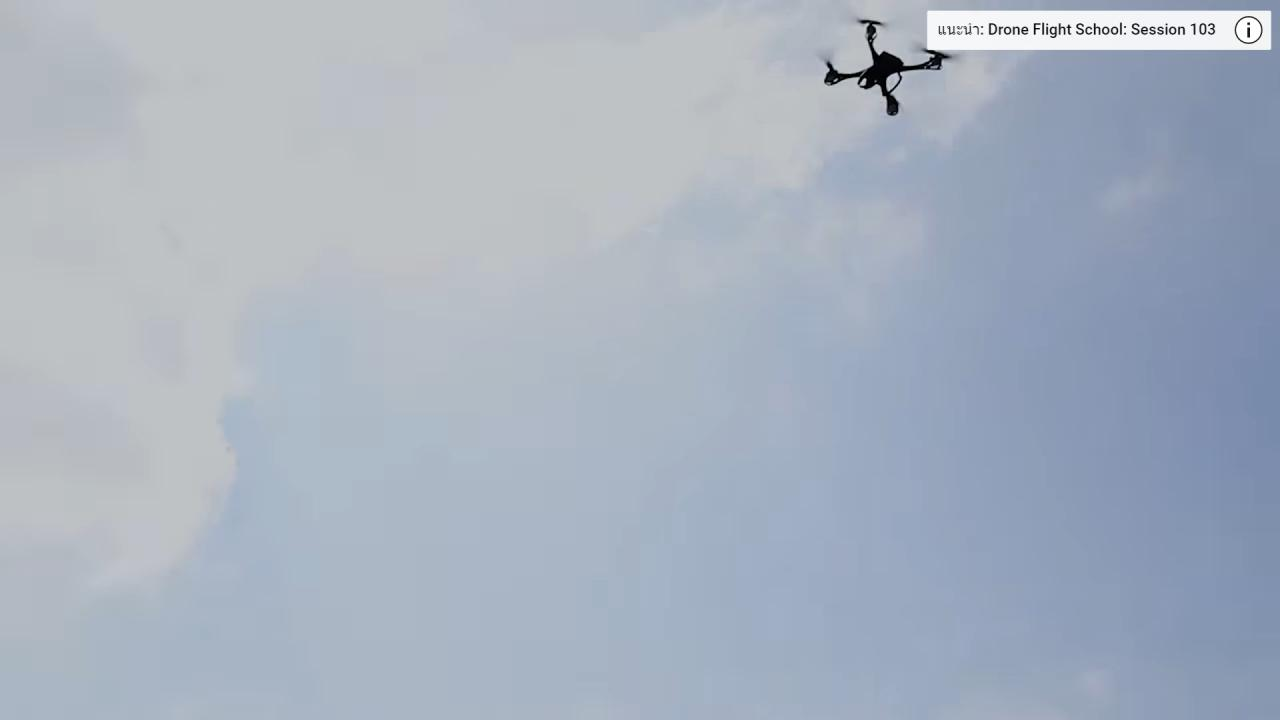Drone: (799, 3, 972, 129)
